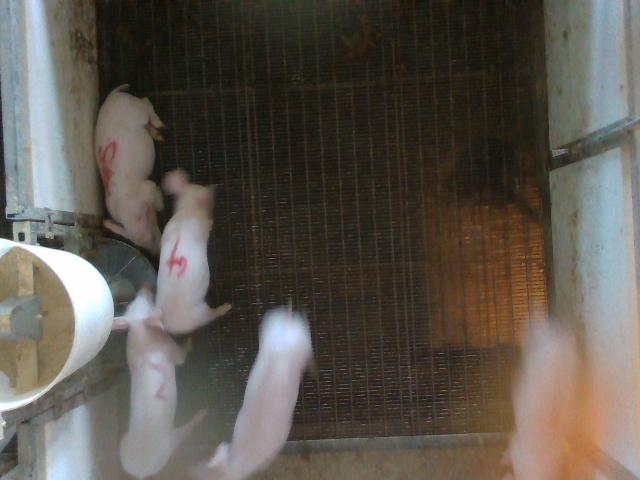pig-1: (506, 320, 581, 479)
pig-2: (112, 285, 205, 478)
pig-4: (156, 170, 231, 333)
pig-5: (95, 84, 164, 254)
